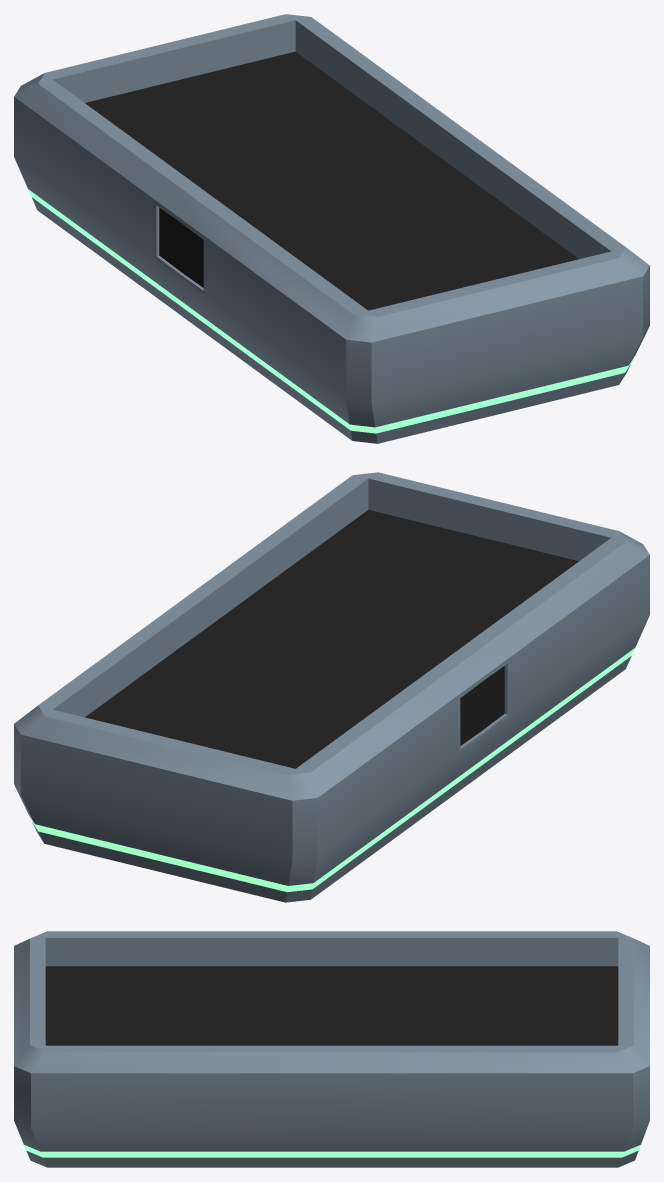
The model's file is SM_planter_2x1.fbx.
3 views of the same model, one above another, from view 1: azimuth 30°, elevation 25°; view 2: azimuth 150°, elevation 25°; view 3: azimuth 270°, elevation 25° (orthographic). The views are drawn at different scales.
Visible parts, largest first — view 1: Planter 2x1; view 2: Planter 2x1; view 3: Planter 2x1.
Part boxes in pixels (bbox=[...]): Planter 2x1: bbox=[14, 14, 649, 443]; Planter 2x1: bbox=[14, 472, 649, 902]; Planter 2x1: bbox=[14, 931, 649, 1167].
Bounding box in the file's own units: 100 × 40 × 200.
